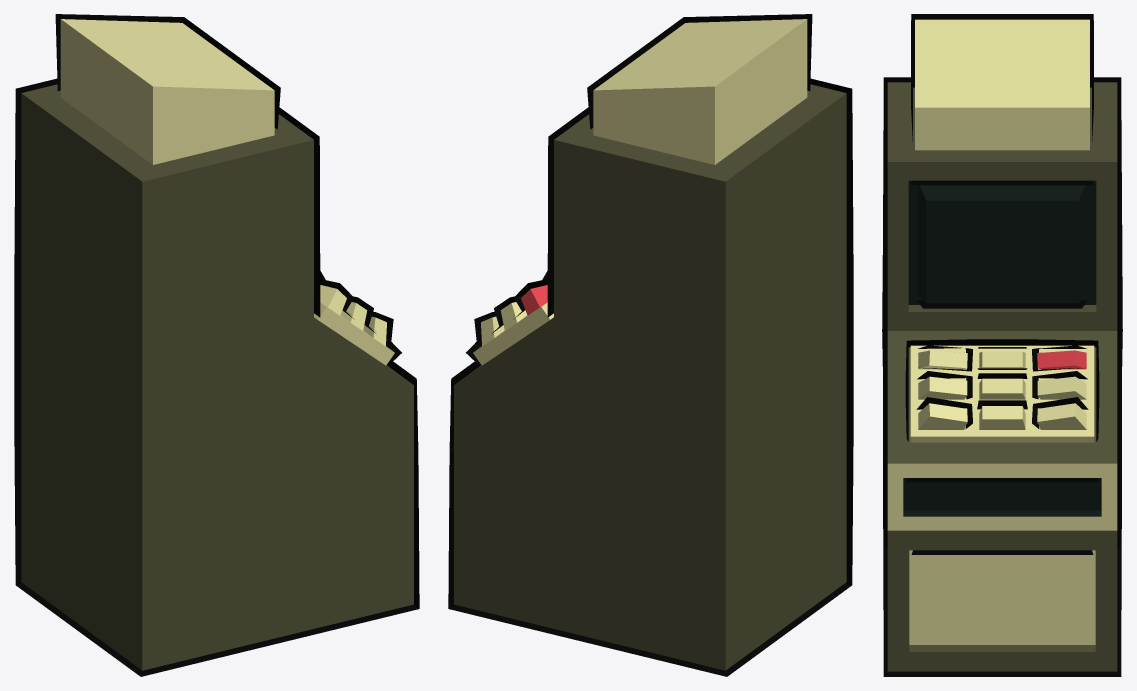
Rendered from oldpc.fbx.
3 renders of one model, left to right at view 1: azimuth 30°, elevation 25°; view 2: azimuth 150°, elevation 25°; view 3: azimuth 270°, elevation 25°, orthographic. The views are drawn at different scales.
Visible parts, largest first — view 1: Cube; view 2: Cube; view 3: Cube.
Part boxes in pixels (x1,y1,x2,y2): Cube: (14,14,419,676); Cube: (448,14,853,676); Cube: (882,14,1122,676).
Bounding box in the file's own units: 269 × 525 × 210.
